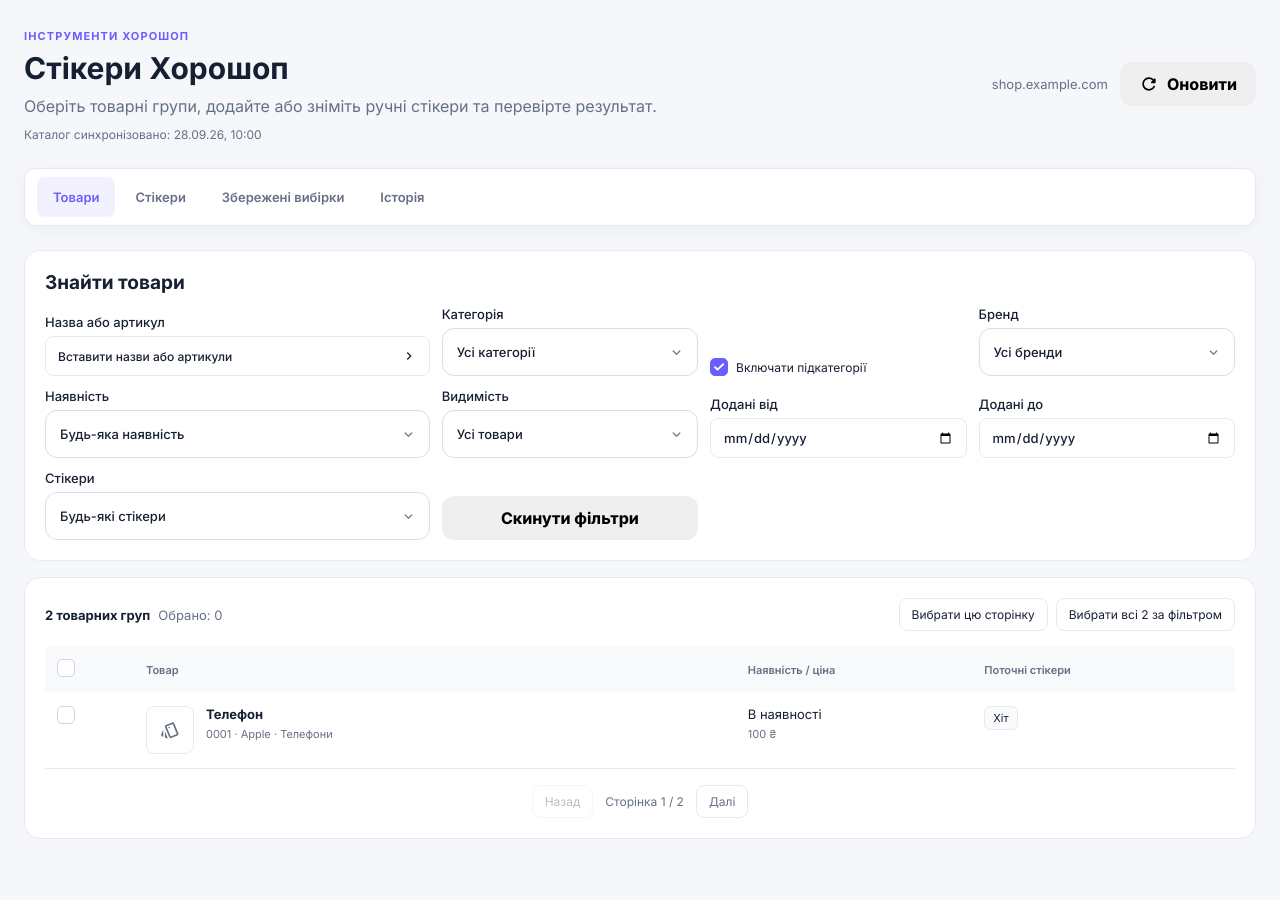
Scenario: HoroshopStickersPage › opens list search in a dialog and scopes the catalog to the resolved parent
Expected: the checkbox named "Обрати 0001" is shown, [57,706,75,724]
Expected: the element named "Фільтри товарів" is shown, [24,250,1256,561]
Click the button with aria-label "Назва або артикул" at (145, 356), box [45,336,430,376]
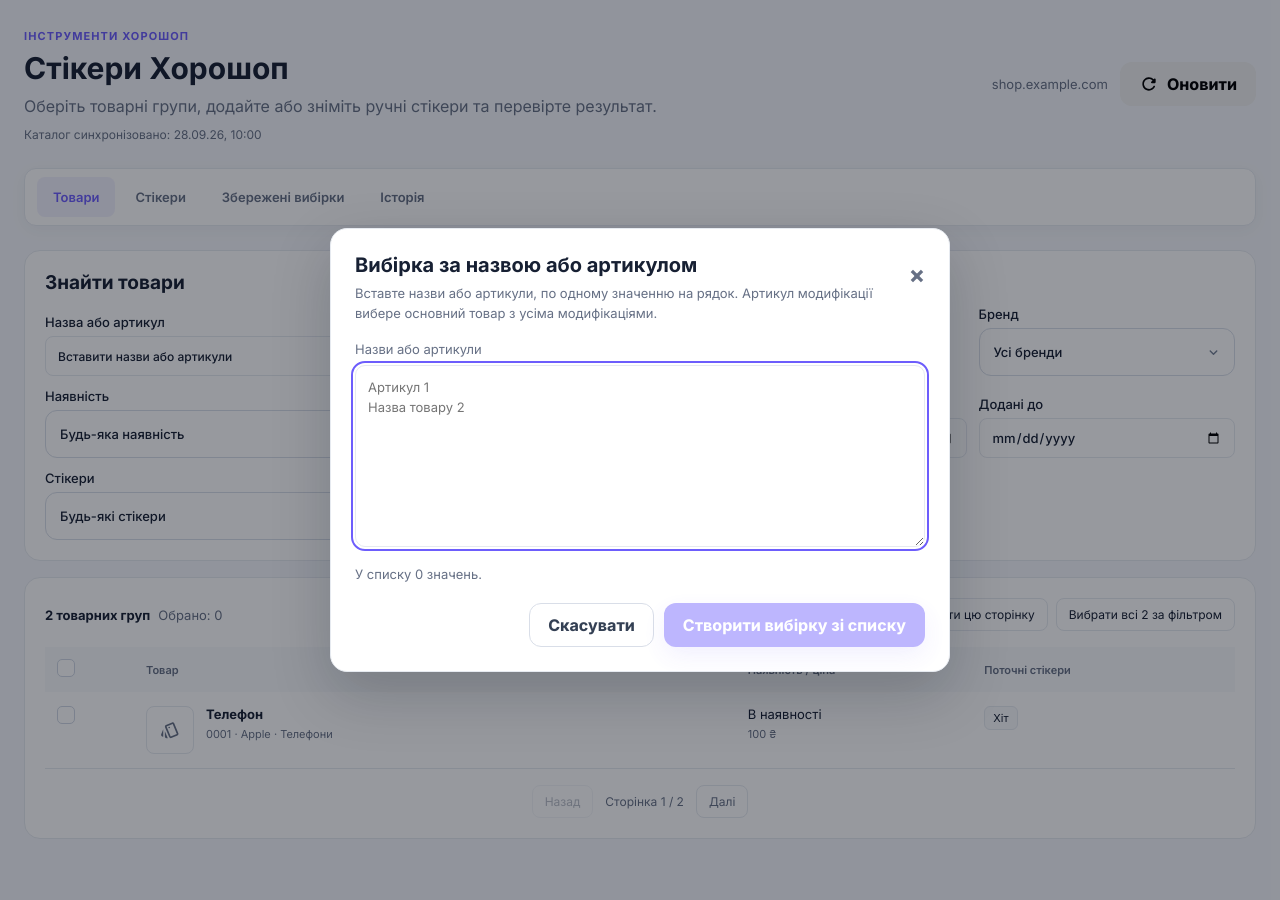
Type "Телефон" into the text box labelled "Назви або артикули" at (640, 456), box [355,365,925,547]
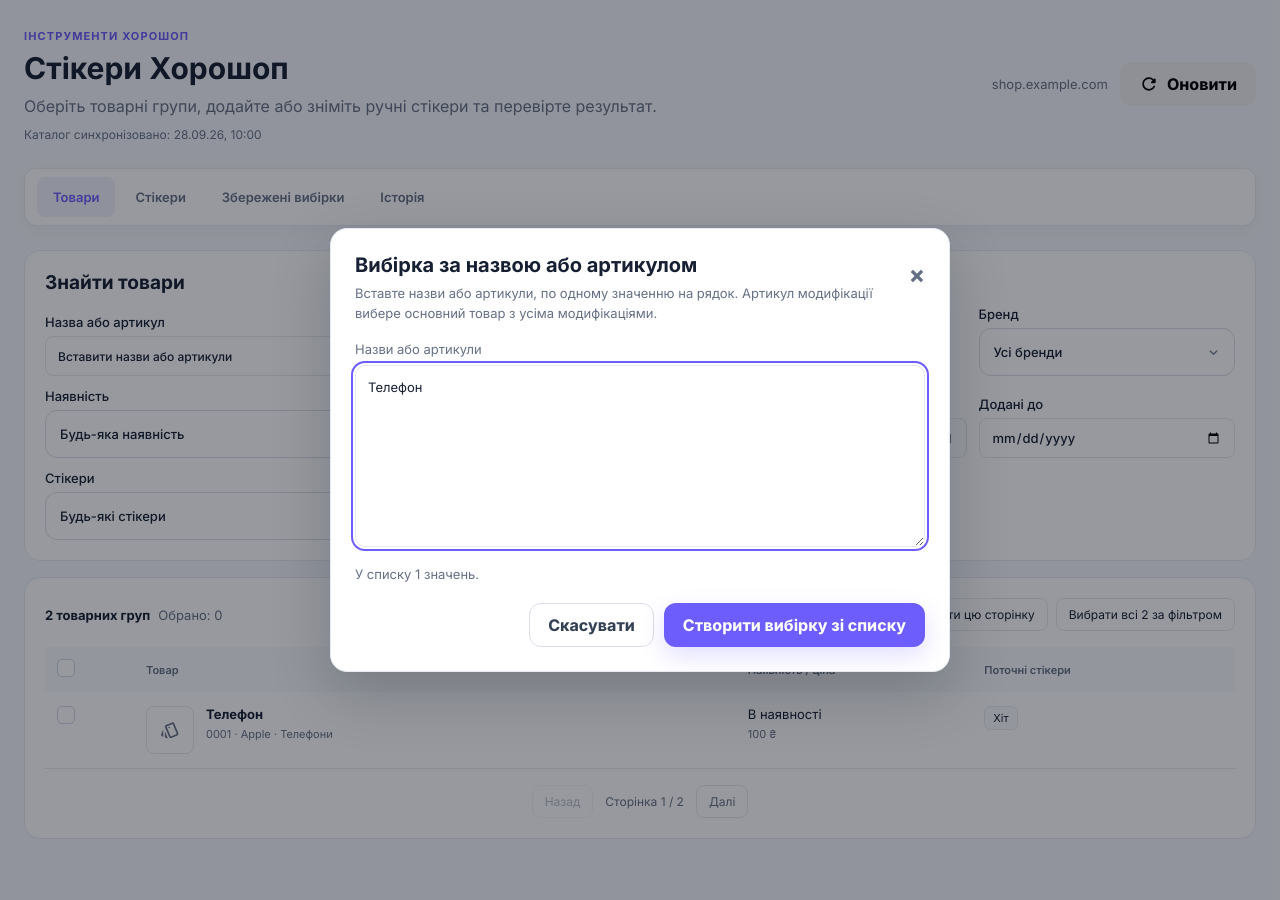
Click the button "Створити вибірку зі списку" at (794, 625), box [664,603,925,647]
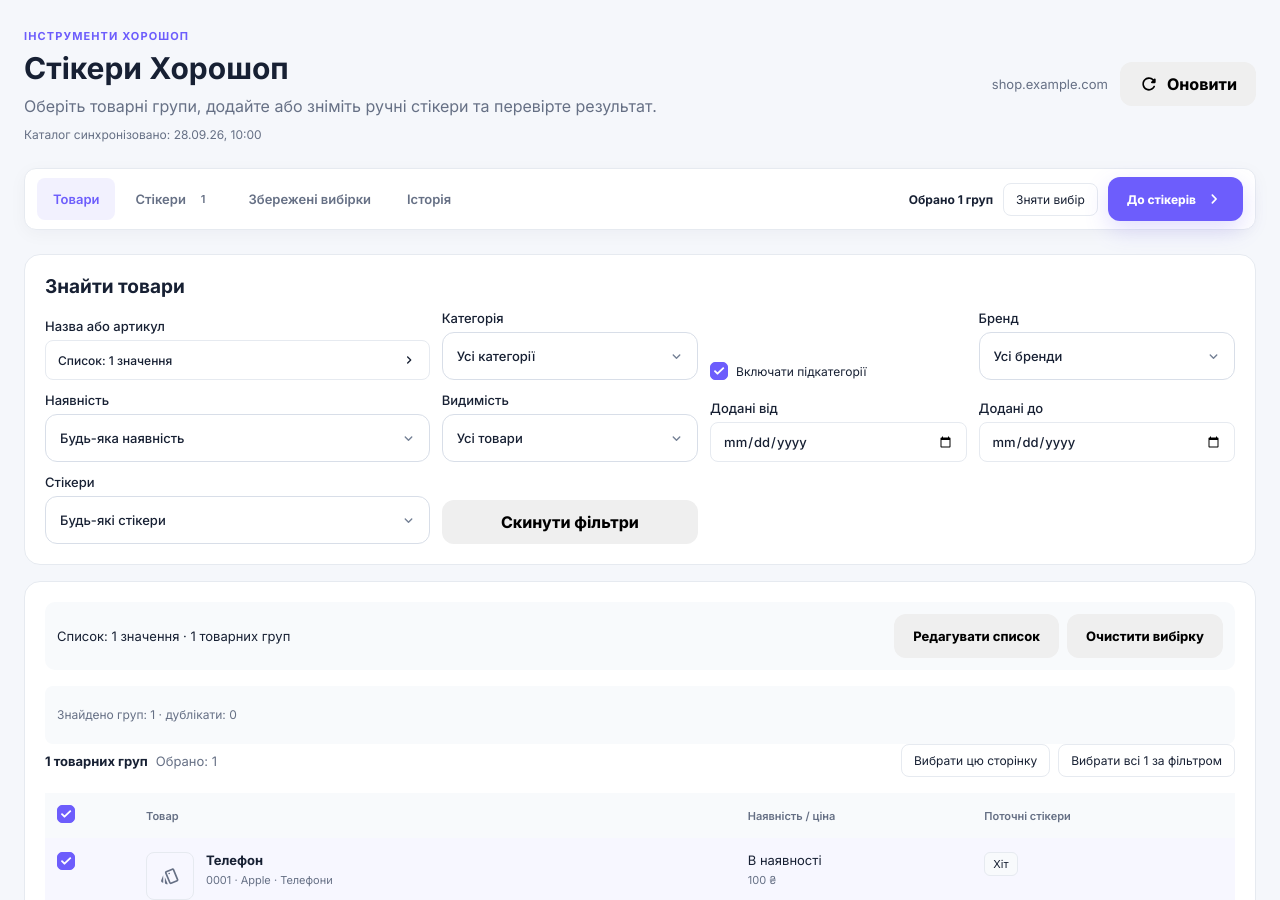
Result: the text "Обрано: 1" is shown at [156,752,217,768]
Click the button "Очистити вибірку" at (1145, 636), box [1067,614,1223,658]
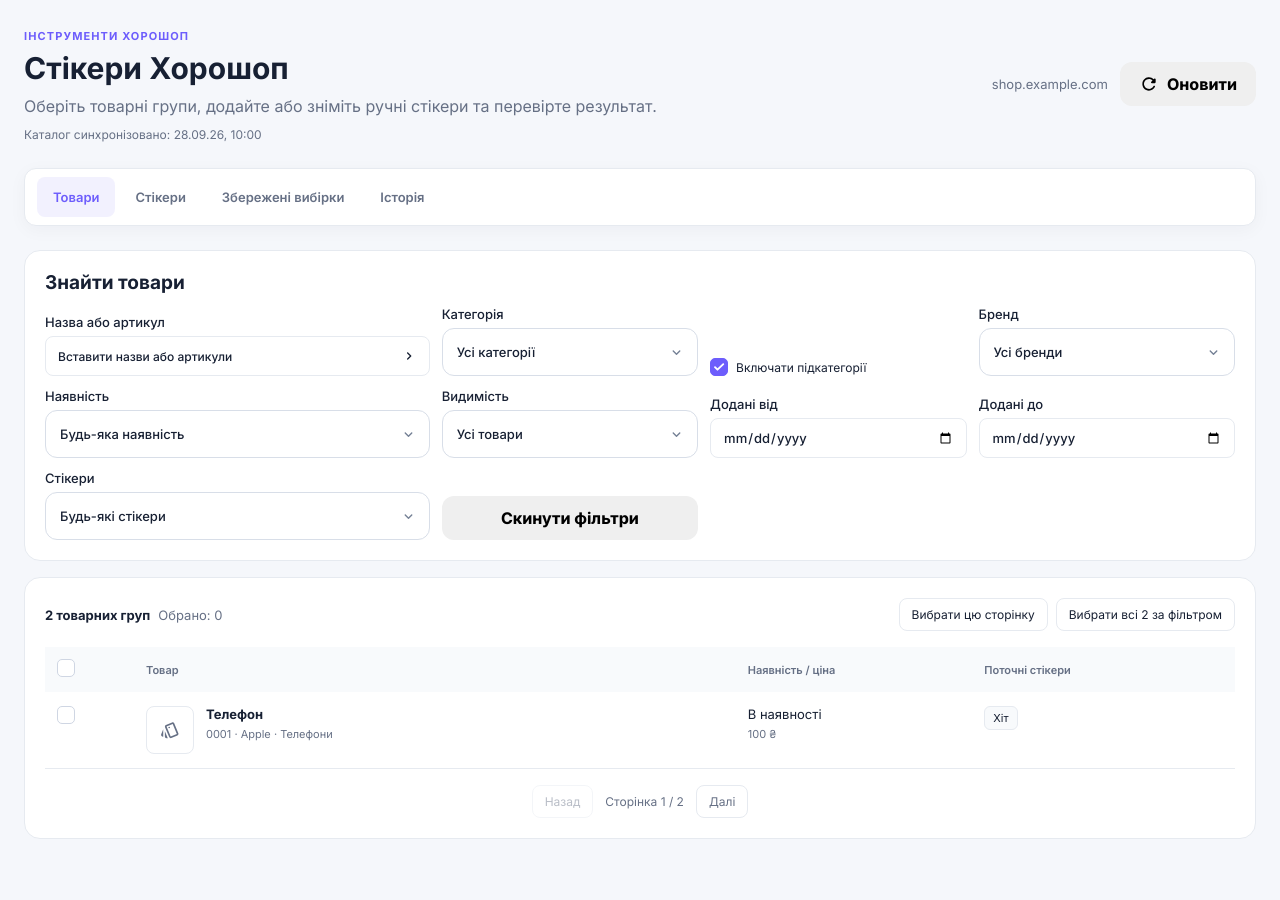
Result: the button "Список: 1 значення" is gone
